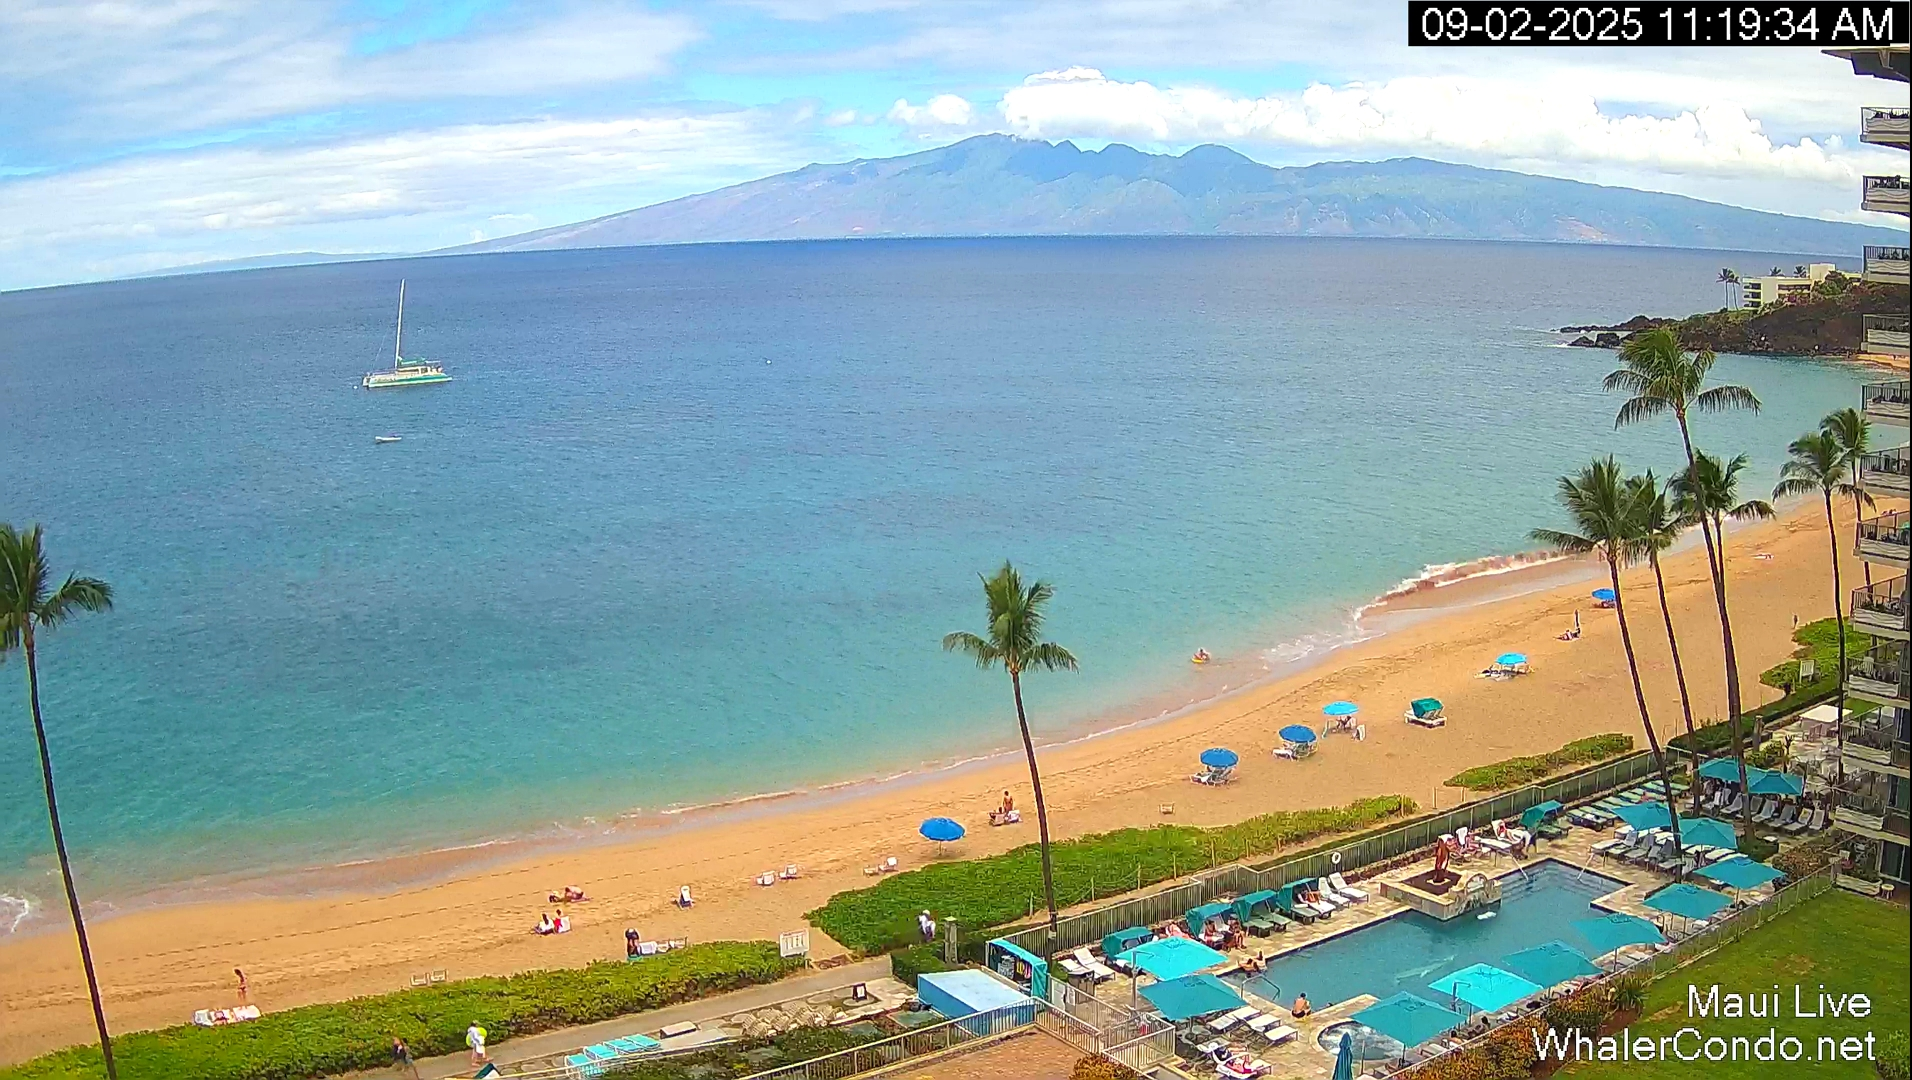boat: (362, 278, 453, 388), (563, 1032, 640, 1080), (375, 436, 402, 443)
person: (466, 1020, 487, 1068), (391, 1037, 413, 1069), (233, 968, 248, 1006), (1291, 992, 1311, 1019), (624, 927, 640, 960), (534, 913, 555, 935), (553, 909, 571, 934), (564, 886, 592, 902), (1002, 790, 1014, 813), (1192, 648, 1210, 663)
